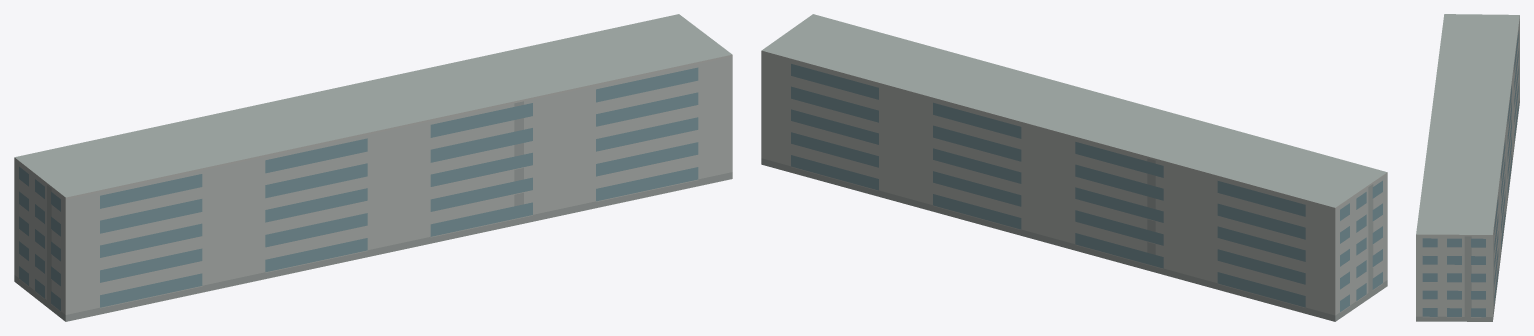
Rendered from residential-754bb7c7-3827-4e4a-94c9-bcb0341b956c.glb.
The picture shows the model from 3 angles, left to right: view 1: azimuth 30°, elevation 25°; view 2: azimuth 150°, elevation 25°; view 3: azimuth 270°, elevation 25°; orthographic projection. The views are drawn at different scales.
Parts seen in each view (by area): view 1: residential-754bb7c7-3827-4e4a-94c9-bcb0341b956c.tmp; view 2: residential-754bb7c7-3827-4e4a-94c9-bcb0341b956c.tmp; view 3: residential-754bb7c7-3827-4e4a-94c9-bcb0341b956c.tmp.
Boxes of the visible parts, box(x1,y1,x2,y2) form: residential-754bb7c7-3827-4e4a-94c9-bcb0341b956c.tmp: box(14, 14, 732, 321); residential-754bb7c7-3827-4e4a-94c9-bcb0341b956c.tmp: box(761, 14, 1387, 321); residential-754bb7c7-3827-4e4a-94c9-bcb0341b956c.tmp: box(1416, 14, 1519, 321).
Bounding box in the file's own units: 83.16 × 15.25 × 16.53.
